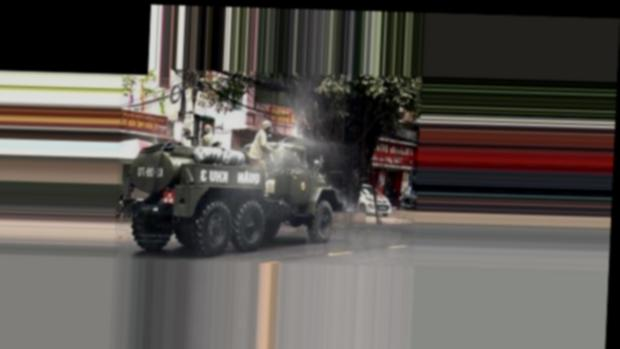License_Plate: (160, 191, 177, 206)
